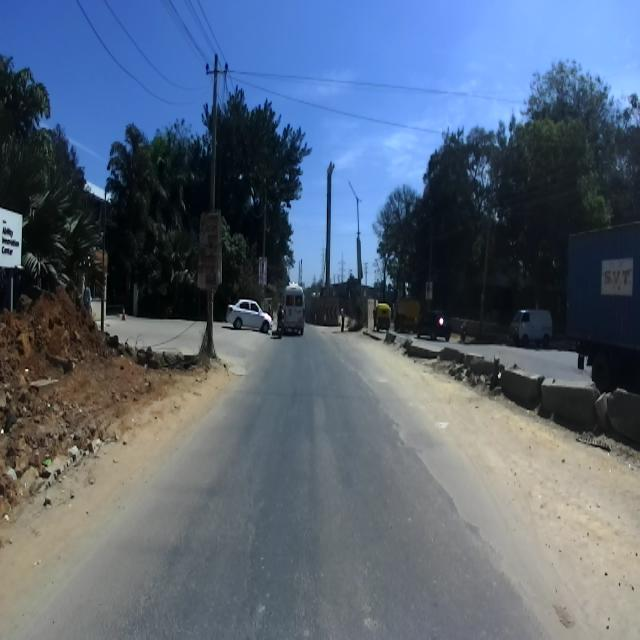electric pole ahead at: (192, 43, 238, 376)
